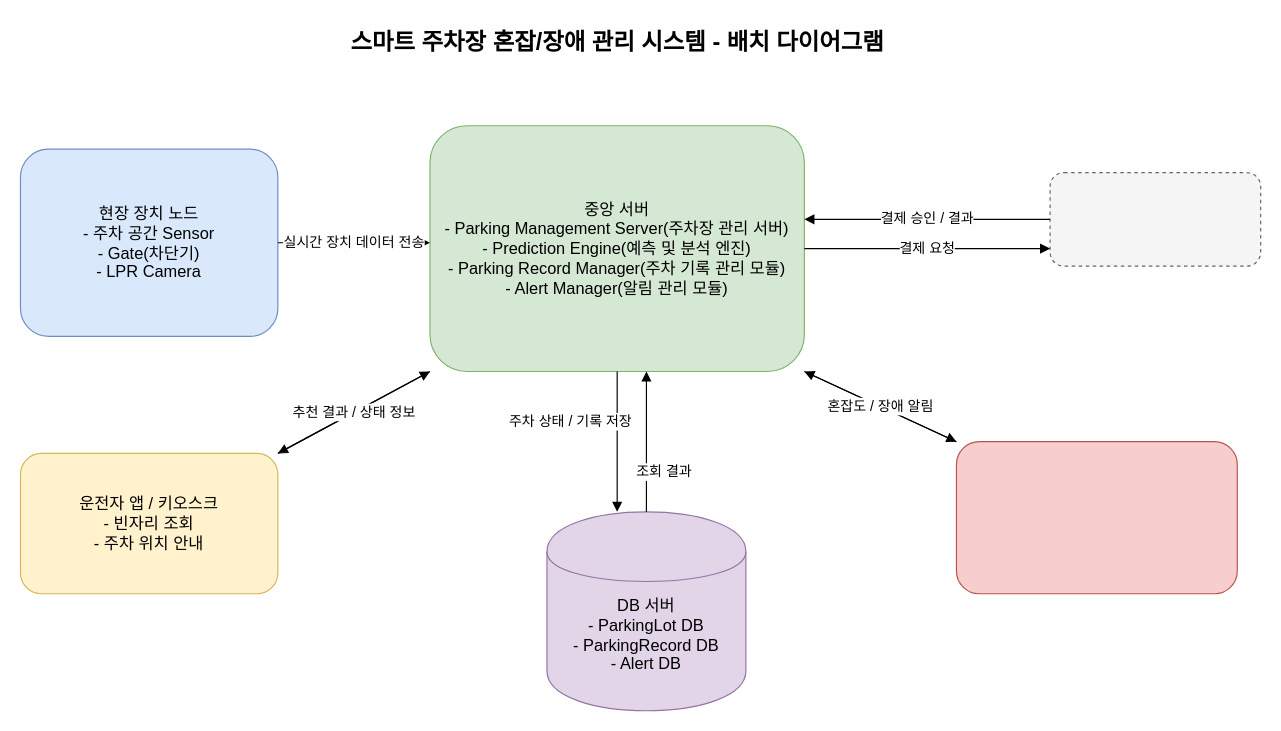
This 1281x731 diagram has some shape labels left out. Each missing label, with the box of its shape:
관리자 대시보드 - 혼잡도 확인 - 장애 확인 - 장치 상태 관리: (955, 441, 1237, 594)
외부 결제 시스템: (1049, 171, 1261, 266)
